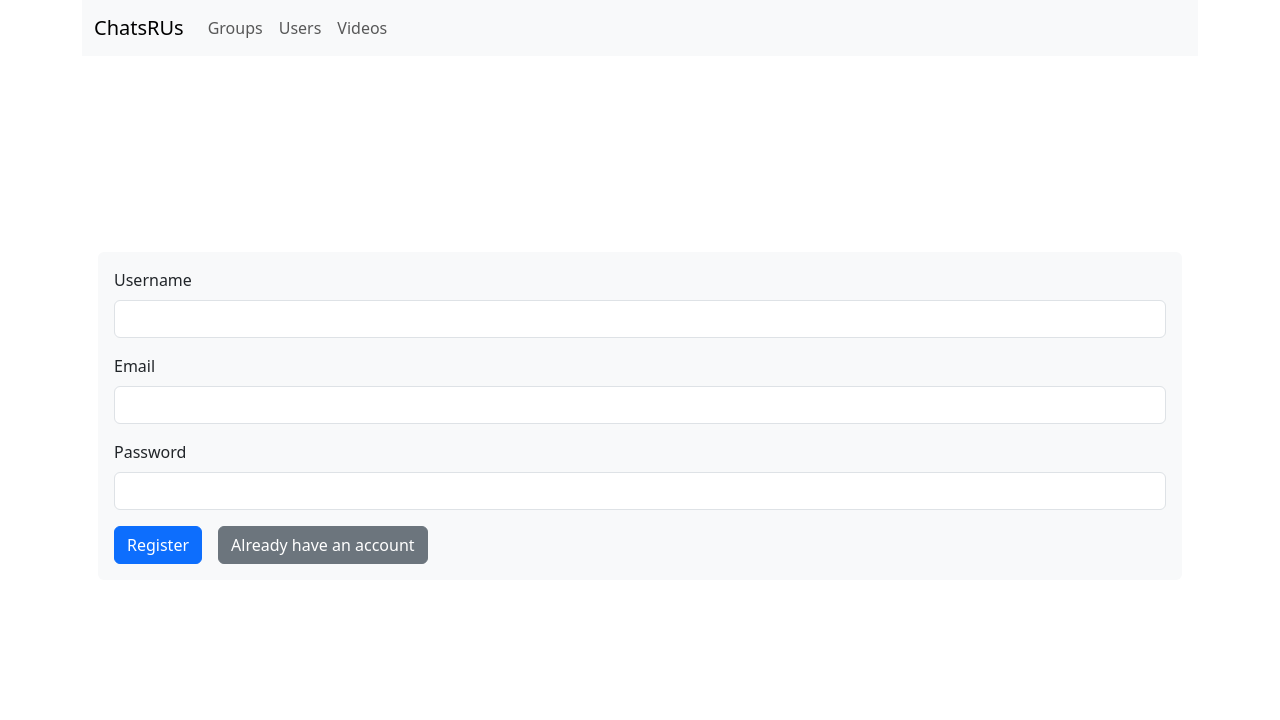
RegisterComponent › should show an error message when trying to register with missing fields
Click the submit button.
click(158, 545)  # box x1=114 y1=526 x2=202 y2=564
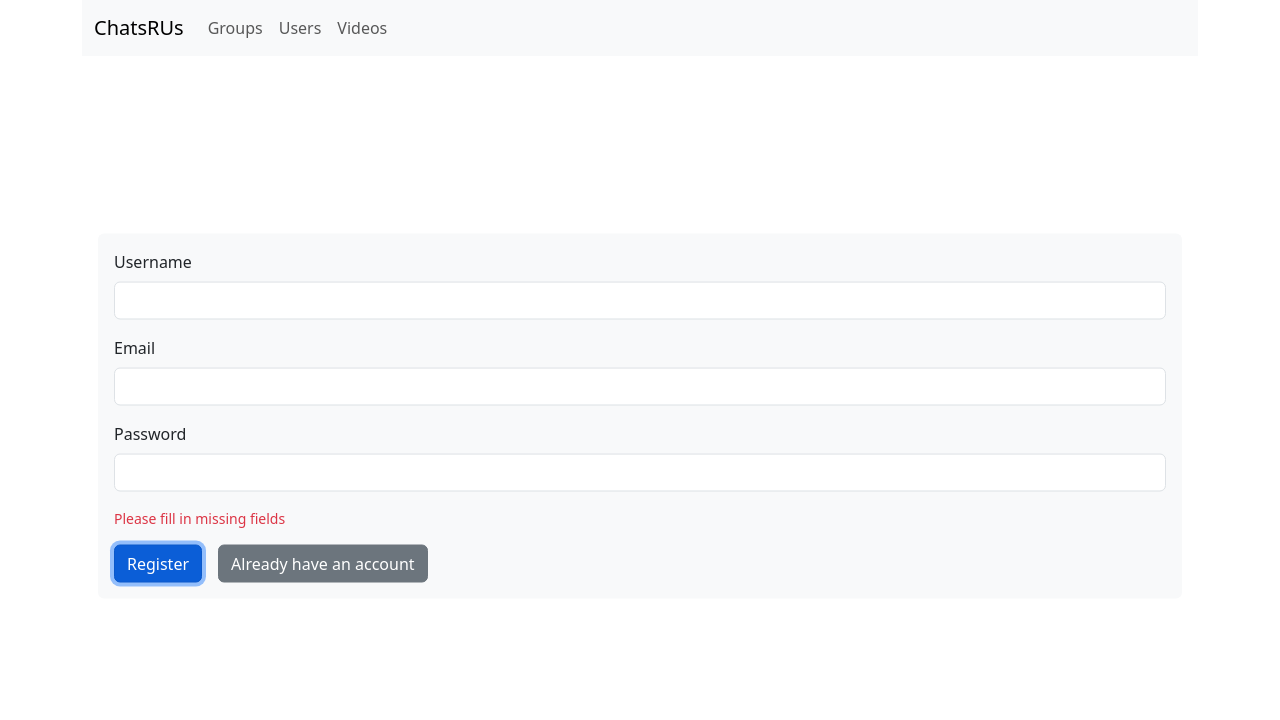
Now the text with class "invalid-feedback" reads "Please fill in missing fields", box x1=114 y1=509 x2=285 y2=528
